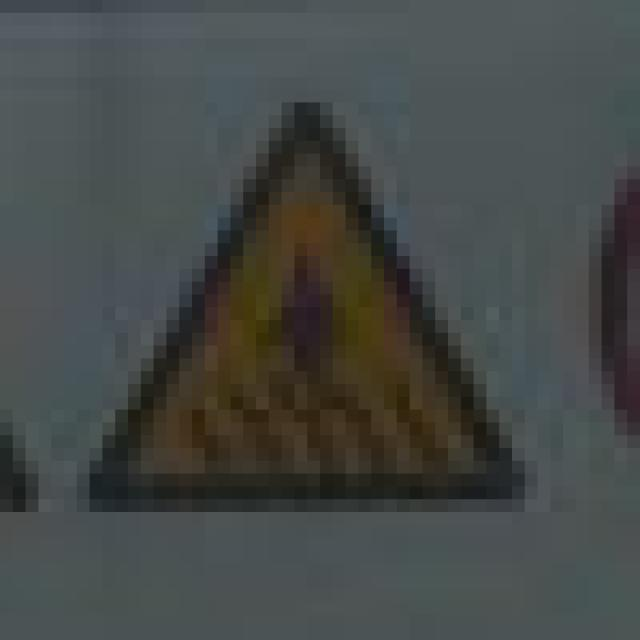pass_either_side: (51, 77, 525, 512)
